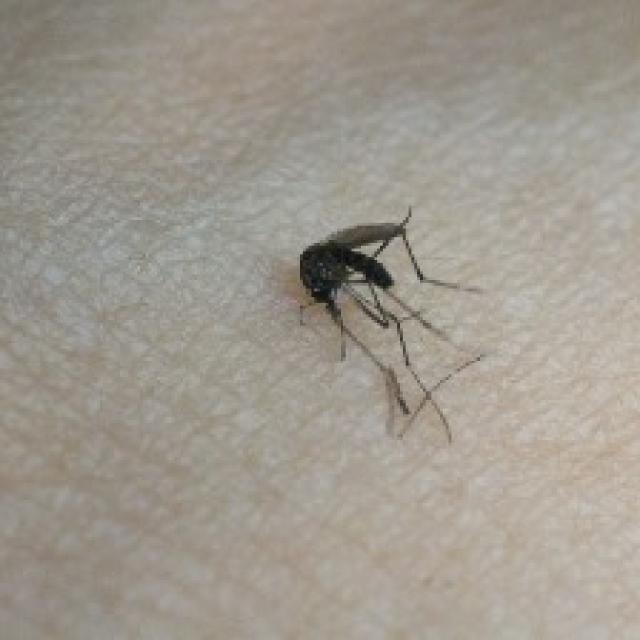aedes: (291, 203, 486, 446)
